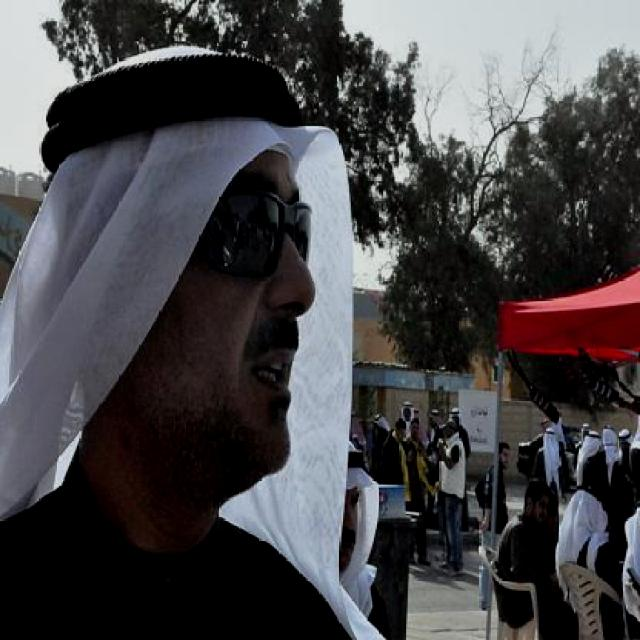face_nomask: (192, 196, 332, 430)
glasses: (162, 161, 310, 297)
head_nohelmet: (55, 50, 358, 201)
